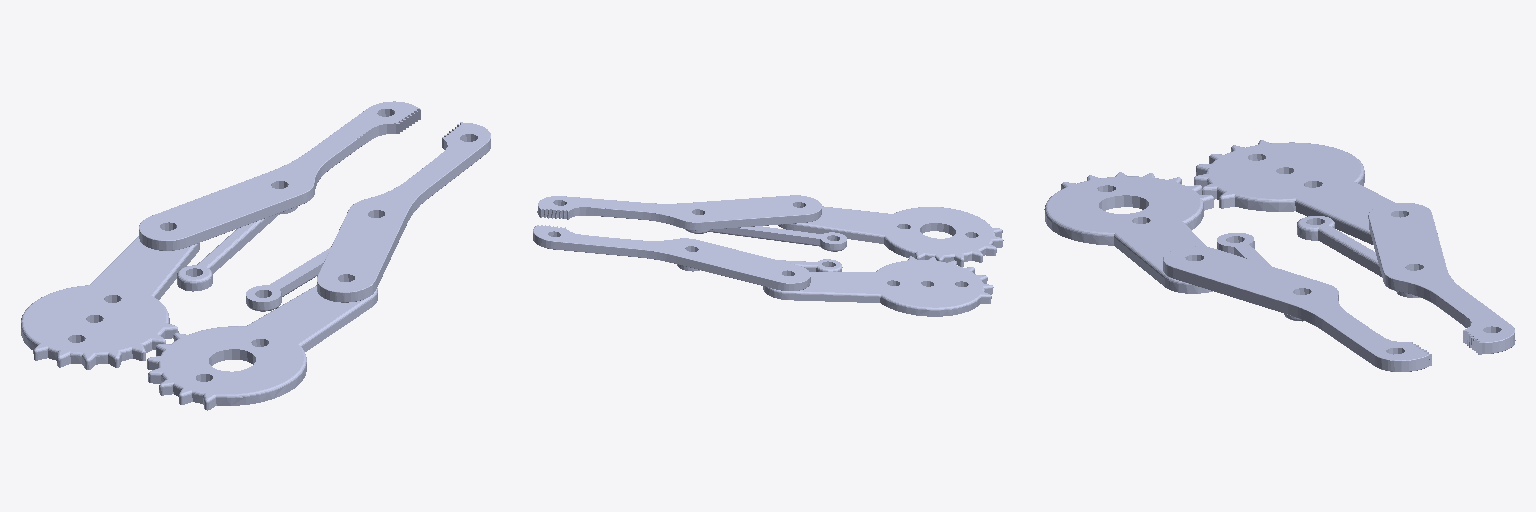
robot.urdf — RBTC_ASSEM_COMBINED:
<?xml version="1.0" encoding="utf-8"?>
<!-- This URDF was automatically created by SolidWorks to URDF Exporter! Originally created by [author] ([email redacted]) 
     Commit Version: 1.6.0-4-g7f85cfe  Build Version: 1.6.7995.38578
     For more information, please see http://wiki.ros.org/sw_urdf_exporter -->
<robot
  name="RBTC_ASSEM_COMBINED">
  <link
    name="base_link">
    <inertial>
      <origin
        xyz="0.0322125722891531 -0.0450904382938323 0.0430857594162836"
        rpy="0 0 0" />
      <mass
        value="0.0750869004773183" />
      <inertia
        ixx="4.23886363599727E-05"
        ixy="-8.08436179929658E-12"
        ixz="6.65028976677411E-08"
        iyy="1.8766674682362E-05"
        iyz="7.17327858728356E-08"
        izz="3.98976211467039E-05" />
    </inertial>
    <visual>
      <origin
        xyz="0 0 0"
        rpy="0 0 0" />
      <geometry>
        <mesh
          filename="package://RBTC_ASSEM_COMBINED/meshes/base_link.STL" />
      </geometry>
      <material
        name="">
        <color
          rgba="0.792156862745098 0.819607843137255 0.933333333333333 1" />
      </material>
    </visual>
    <collision>
      <origin
        xyz="0 0 0"
        rpy="0 0 0" />
      <geometry>
        <mesh
          filename="package://RBTC_ASSEM_COMBINED/meshes/base_link.STL" />
      </geometry>
    </collision>
  </link>
  <link
    name="pan_link">
    <inertial>
      <origin
        xyz="0.0121597754332669 0.00617031671697683 0.100269853687034"
        rpy="0 0 0" />
      <mass
        value="0.0391115640031782" />
      <inertia
        ixx="9.52906858889322E-06"
        ixy="-1.14270462060105E-06"
        ixz="2.89413881015819E-08"
        iyy="1.11585037533337E-05"
        iyz="-5.9875116565375E-08"
        izz="1.13226152634095E-05" />
    </inertial>
    <visual>
      <origin
        xyz="0 0 0"
        rpy="0 0 0" />
      <geometry>
        <mesh
          filename="package://RBTC_ASSEM_COMBINED/meshes/pan_link.STL" />
      </geometry>
      <material
        name="">
        <color
          rgba="0.792156862745098 0.819607843137255 0.933333333333333 1" />
      </material>
    </visual>
    <collision>
      <origin
        xyz="0 0 0"
        rpy="0 0 0" />
      <geometry>
        <mesh
          filename="package://RBTC_ASSEM_COMBINED/meshes/pan_link.STL" />
      </geometry>
    </collision>
  </link>
  <joint
    name="Joint_1"
    type="revolute">
    <origin
      xyz="0.03725 -0.054499 0"
      rpy="0 0 0" />
    <parent
      link="base_link" />
    <child
      link="pan_link" />
    <axis
      xyz="0 0 1" />
    <limit
      lower="0"
      upper="0"
      effort="1.07"
      velocity="2.25" />
  </joint>
  <link
    name="tilt_link">
    <inertial>
      <origin
        xyz="0.0340658298771595 -0.0174824203639809 0.0450091906125141"
        rpy="0 0 0" />
      <mass
        value="0.0145715061545409" />
      <inertia
        ixx="1.02030766473455E-05"
        ixy="2.24998187471656E-06"
        ixz="-1.52556582758867E-06"
        iyy="6.63436773563886E-06"
        iyz="-7.37221493910408E-07"
        izz="8.85099329790317E-06" />
    </inertial>
    <visual>
      <origin
        xyz="0 0 0"
        rpy="0 0 0" />
      <geometry>
        <mesh
          filename="package://RBTC_ASSEM_COMBINED/meshes/tilt_link.STL" />
      </geometry>
      <material
        name="">
        <color
          rgba="0.792156862745098 0.819607843137255 0.933333333333333 1" />
      </material>
    </visual>
    <collision>
      <origin
        xyz="0 0 0"
        rpy="0 0 0" />
      <geometry>
        <mesh
          filename="package://RBTC_ASSEM_COMBINED/meshes/tilt_link.STL" />
      </geometry>
    </collision>
  </link>
  <joint
    name="Joint_2"
    type="revolute">
    <origin
      xyz="-0.011158 0.026539 0.1077"
      rpy="0 0 0" />
    <parent
      link="pan_link" />
    <child
      link="tilt_link" />
    <axis
      xyz="0.4351 -0.90038 0" />
    <limit
      lower="0"
      upper="0"
      effort="1.07"
      velocity="2.25" />
  </joint>
  <link
    name="tilt_link2">
    <inertial>
      <origin
        xyz="0.0323300763250958 -0.0179693187111258 0.00351917647076791"
        rpy="0 0 0" />
      <mass
        value="0.0415514970399526" />
      <inertia
        ixx="9.36512363364744E-06"
        ixy="2.09499396607922E-07"
        ixz="-1.05560533082383E-06"
        iyy="8.88684831012535E-06"
        iyz="-5.98214181934272E-07"
        izz="1.47112404798138E-05" />
    </inertial>
    <visual>
      <origin
        xyz="0 0 0"
        rpy="0 0 0" />
      <geometry>
        <mesh
          filename="package://RBTC_ASSEM_COMBINED/meshes/tilt_link2.STL" />
      </geometry>
      <material
        name="">
        <color
          rgba="0.792156862745098 0.819607843137255 0.933333333333333 1" />
      </material>
    </visual>
    <collision>
      <origin
        xyz="0 0 0"
        rpy="0 0 0" />
      <geometry>
        <mesh
          filename="package://RBTC_ASSEM_COMBINED/meshes/tilt_link2.STL" />
      </geometry>
    </collision>
  </link>
  <joint
    name="Joint_3"
    type="revolute">
    <origin
      xyz="0.042284 0.020434 0.091671"
      rpy="0 0 0" />
    <parent
      link="tilt_link" />
    <child
      link="tilt_link2" />
    <axis
      xyz="0.4351 -0.90038 0" />
    <limit
      lower="0"
      upper="0"
      effort="1.07"
      velocity="2.25" />
  </joint>
  <link
    name="tilt_link3">
    <inertial>
      <origin
        xyz="0.0307581705802682 -0.0193756528792168 0.0148465465687513"
        rpy="0 0 0" />
      <mass
        value="0.0637086636084426" />
      <inertia
        ixx="1.07476277265833E-05"
        ixy="-8.39454123772837E-08"
        ixz="-3.54690238089718E-07"
        iyy="1.05040450064873E-05"
        iyz="-1.08351381177356E-07"
        izz="1.70770325354857E-05" />
    </inertial>
    <visual>
      <origin
        xyz="0 0 0"
        rpy="0 0 0" />
      <geometry>
        <mesh
          filename="package://RBTC_ASSEM_COMBINED/meshes/tilt_link3.STL" />
      </geometry>
      <material
        name="">
        <color
          rgba="0.792156862745098 0.819607843137255 0.933333333333333 1" />
      </material>
    </visual>
    <collision>
      <origin
        xyz="0 0 0"
        rpy="0 0 0" />
      <geometry>
        <mesh
          filename="package://RBTC_ASSEM_COMBINED/meshes/tilt_link3.STL" />
      </geometry>
    </collision>
  </link>
  <joint
    name="Joint_4"
    type="revolute">
    <origin
      xyz="0.086984 0.036759 0.02048"
      rpy="0 0 0" />
    <parent
      link="tilt_link2" />
    <child
      link="tilt_link3" />
    <axis
      xyz="0.4351 -0.90038 0" />
    <limit
      lower="0"
      upper="0"
      effort="1.07"
      velocity="2.25" />
  </joint>
  <link
    name="arm_rot_link">
    <inertial>
      <origin
        xyz="0.0798240927961087 0.0142525468035986 -0.012664035886584"
        rpy="0 0 0" />
      <mass
        value="0.035038743743134" />
      <inertia
        ixx="7.41110516394362E-06"
        ixy="1.24617888225622E-06"
        ixz="1.55558821701446E-07"
        iyy="5.393640730361E-06"
        iyz="-5.8437556389652E-09"
        izz="5.95334334046931E-06" />
    </inertial>
    <visual>
      <origin
        xyz="0 0 0"
        rpy="0 0 0" />
      <geometry>
        <mesh
          filename="package://RBTC_ASSEM_COMBINED/meshes/arm_rot_link.STL" />
      </geometry>
      <material
        name="">
        <color
          rgba="0.792156862745098 0.819607843137255 0.933333333333333 1" />
      </material>
    </visual>
    <collision>
      <origin
        xyz="0 0 0"
        rpy="0 0 0" />
      <geometry>
        <mesh
          filename="package://RBTC_ASSEM_COMBINED/meshes/arm_rot_link.STL" />
      </geometry>
    </collision>
  </link>
  <joint
    name="Joint_5"
    type="revolute">
    <origin
      xyz="0.014779 -0.018682 0.027408"
      rpy="0 0 0" />
    <parent
      link="tilt_link3" />
    <child
      link="arm_rot_link" />
    <axis
      xyz="0.89837 0.43413 0.066865" />
    <limit
      lower="0"
      upper="0"
      effort="1.07"
      velocity="2.25" />
  </joint>
  <link
    name="claw_gear_right">
    <inertial>
      <origin
        xyz="0.00733253737176701 0.0030637929040965 -0.000475299028632248"
        rpy="0 0 0" />
      <mass
        value="0.0013754890893663" />
      <inertia
        ixx="6.96811904044285E-08"
        ixy="-6.03067792542813E-08"
        ixz="-1.42764704741264E-08"
        iyy="2.09350483029757E-07"
        iyz="-5.61029499623062E-09"
        izz="2.76071539308495E-07" />
    </inertial>
    <visual>
      <origin
        xyz="0 0 0"
        rpy="0 0 0" />
      <geometry>
        <mesh
          filename="package://RBTC_ASSEM_COMBINED/meshes/claw_gear_right.STL" />
      </geometry>
      <material
        name="">
        <color
          rgba="0.792156862745098 0.819607843137255 0.933333333333333 1" />
      </material>
    </visual>
    <collision>
      <origin
        xyz="0 0 0"
        rpy="0 0 0" />
      <geometry>
        <mesh
          filename="package://RBTC_ASSEM_COMBINED/meshes/claw_gear_right.STL" />
      </geometry>
    </collision>
  </link>
  <joint
    name="Joint_6"
    type="revolute">
    <origin
      xyz="0.076557 0.01956 0.011654"
      rpy="0 0 0" />
    <parent
      link="arm_rot_link" />
    <child
      link="claw_gear_right" />
    <axis
      xyz="0.060204 0.029093 -0.99776" />
    <limit
      lower="0"
      upper="0"
      effort="1.07"
      velocity="2.25" />
  </joint>
  <link
    name="claw_finger_right">
    <inertial>
      <origin
        xyz="0.0167099520180898 0.0147135953100836 0.000435044625649028"
        rpy="0 0 0" />
      <mass
        value="0.000915119454499884" />
      <inertia
        ixx="1.00899961269851E-07"
        ixy="-1.23645647110571E-07"
        ixz="-1.41408536044103E-08"
        iyy="1.76370229480981E-07"
        iyz="-1.03512930385455E-08"
        izz="2.74350634303337E-07" />
    </inertial>
    <visual>
      <origin
        xyz="0 0 0"
        rpy="0 0 0" />
      <geometry>
        <mesh
          filename="package://RBTC_ASSEM_COMBINED/meshes/claw_finger_right.STL" />
      </geometry>
      <material
        name="">
        <color
          rgba="0.792156862745098 0.819607843137255 0.933333333333333 1" />
      </material>
    </visual>
    <collision>
      <origin
        xyz="0 0 0"
        rpy="0 0 0" />
      <geometry>
        <mesh
          filename="package://RBTC_ASSEM_COMBINED/meshes/claw_finger_right.STL" />
      </geometry>
    </collision>
  </link>
  <joint
    name="Joint_8"
    type="revolute">
    <origin
      xyz="0.028474 0.011097 0.0040462"
      rpy="0 0 0" />
    <parent
      link="claw_gear_right" />
    <child
      link="claw_finger_right" />
    <axis
      xyz="0.060204 0.029093 -0.99776" />
    <limit
      lower="0"
      upper="0"
      effort="1.07"
      velocity="2.25" />
  </joint>
  <link
    name="claw_gear_left">
    <inertial>
      <origin
        xyz="0.00614870313596075 0.00426101151348443 -0.000511537712867605"
        rpy="0 0 0" />
      <mass
        value="0.00146188196614316" />
      <inertia
        ixx="1.16317367765852E-07"
        ixy="-9.11243864675867E-08"
        ixz="-1.27074222907013E-08"
        iyy="1.68629131584842E-07"
        iyz="-8.83462593360449E-09"
        izz="2.81930562691781E-07" />
    </inertial>
    <visual>
      <origin
        xyz="0 0 0"
        rpy="0 0 0" />
      <geometry>
        <mesh
          filename="package://RBTC_ASSEM_COMBINED/meshes/claw_gear_left.STL" />
      </geometry>
      <material
        name="">
        <color
          rgba="0.792156862745098 0.819607843137255 0.933333333333333 1" />
      </material>
    </visual>
    <collision>
      <origin
        xyz="0 0 0"
        rpy="0 0 0" />
      <geometry>
        <mesh
          filename="package://RBTC_ASSEM_COMBINED/meshes/claw_gear_left.STL" />
      </geometry>
    </collision>
  </link>
  <joint
    name="Joint_7"
    type="fixed">
    <origin
      xyz="0.064559 0.044814 0.011917"
      rpy="0 0 0" />
    <parent
      link="arm_rot_link" />
    <child
      link="claw_gear_left" />
    <axis
      xyz="0 0 0" />
    <limit
      effort="0"
      velocity="2.25" />
  </joint>
  <link
    name="claw_finger_left">
    <inertial>
      <origin
        xyz="0.0218155754623671 0.00444808086460385 0.000443786418817704"
        rpy="0 0 0" />
      <mass
        value="0.000915119524811432" />
      <inertia
        ixx="2.99279444428939E-08"
        ixy="-6.99478997487584E-08"
        ixz="-1.68574928938676E-08"
        iyy="2.47351360164997E-07"
        iyz="-5.04152477208969E-09"
        izz="2.74341558668637E-07" />
    </inertial>
    <visual>
      <origin
        xyz="0 0 0"
        rpy="0 0 0" />
      <geometry>
        <mesh
          filename="package://RBTC_ASSEM_COMBINED/meshes/claw_finger_left.STL" />
      </geometry>
      <material
        name="">
        <color
          rgba="0.792156862745098 0.819607843137255 0.933333333333333 1" />
      </material>
    </visual>
    <collision>
      <origin
        xyz="0 0 0"
        rpy="0 0 0" />
      <geometry>
        <mesh
          filename="package://RBTC_ASSEM_COMBINED/meshes/claw_finger_left.STL" />
      </geometry>
    </collision>
  </link>
  <joint
    name="Joint_9"
    type="revolute">
    <origin
      xyz="0.024668 0.018045 0.0040191"
      rpy="0 0 0" />
    <parent
      link="claw_gear_left" />
    <child
      link="claw_finger_left" />
    <axis
      xyz="-0.060204 -0.029093 0.99776" />
    <limit
      lower="0"
      upper="0"
      effort="1.07"
      velocity="2.25" />
  </joint>
  <link
    name="attach_right">
    <inertial>
      <origin
        xyz="0.0140885154048141 0.00530816472309698 -0.000328948185019273"
        rpy="0 0 0" />
      <mass
        value="0.000201367199453978" />
      <inertia
        ixx="3.4730663253518E-09"
        ixy="-7.99795190058279E-09"
        ixz="-1.52974359751515E-09"
        iyy="2.17267078350555E-08"
        iyz="-5.76883389048401E-10"
        izz="2.48514622759855E-08" />
    </inertial>
    <visual>
      <origin
        xyz="0 0 0"
        rpy="0 0 0" />
      <geometry>
        <mesh
          filename="package://RBTC_ASSEM_COMBINED/meshes/attach_right.STL" />
      </geometry>
      <material
        name="">
        <color
          rgba="0.792156862745098 0.819607843137255 0.933333333333333 1" />
      </material>
    </visual>
    <collision>
      <origin
        xyz="0 0 0"
        rpy="0 0 0" />
      <geometry>
        <mesh
          filename="package://RBTC_ASSEM_COMBINED/meshes/attach_right.STL" />
      </geometry>
    </collision>
  </link>
  <joint
    name="Joint_10"
    type="revolute">
    <origin
      xyz="0.092697 0.037021 0.013488"
      rpy="0 0 0" />
    <parent
      link="arm_rot_link" />
    <child
      link="attach_right" />
    <axis
      xyz="-0.060204 -0.029093 0.99776" />
    <limit
      lower="0"
      upper="0"
      effort="1.07"
      velocity="2.25" />
  </joint>
  <link
    name="attach_left">
    <inertial>
      <origin
        xyz="0.0128567962087155 0.00780649279371831 -0.000118290581560876"
        rpy="0 0 0" />
      <mass
        value="0.000201367199467839" />
      <inertia
        ixx="7.0125646820852E-09"
        ixy="-1.07726486492E-08"
        ixz="-1.39707966904752E-09"
        iyy="1.81870958832197E-08"
        iyz="-8.47515470162307E-10"
        izz="2.48515758704713E-08" />
    </inertial>
    <visual>
      <origin
        xyz="0 0 0"
        rpy="0 0 0" />
      <geometry>
        <mesh
          filename="package://RBTC_ASSEM_COMBINED/meshes/attach_left.STL" />
      </geometry>
      <material
        name="">
        <color
          rgba="0.792156862745098 0.819607843137255 0.933333333333333 1" />
      </material>
    </visual>
    <collision>
      <origin
        xyz="0 0 0"
        rpy="0 0 0" />
      <geometry>
        <mesh
          filename="package://RBTC_ASSEM_COMBINED/meshes/attach_left.STL" />
      </geometry>
    </collision>
  </link>
  <joint
    name="Joint_11"
    type="revolute">
    <origin
      xyz="0.086606 0.049626 0.013488"
      rpy="0 0 0" />
    <parent
      link="arm_rot_link" />
    <child
      link="attach_left" />
    <axis
      xyz="-0.060204 -0.029093 0.99776" />
    <limit
      lower="0"
      upper="0"
      effort="1.07"
      velocity="2.25" />
  </joint>
</robot>

--- What the picture shows (computed from the rendered views, not written in the file) ---
The picture shows the robot from 3 angles, left to right: view 1: azimuth 30°, elevation 25°; view 2: azimuth 150°, elevation 25°; view 3: azimuth 270°, elevation 25°; orthographic projection.
Model RBTC_ASSEM_COMBINED with 12 links and 11 joints (10 revolute, 1 fixed), rooted at base_link, posed every joint at zero.
Links seen in each view (by area): view 1: claw_gear_right, claw_gear_left, claw_finger_left, claw_finger_right, attach_left, attach_right; view 2: claw_gear_left, claw_gear_right, claw_finger_right, claw_finger_left, attach_right, attach_left; view 3: claw_gear_left, claw_gear_right, claw_finger_right, claw_finger_left, attach_left, attach_right.
Boxes of the visible links, <box> form: claw_gear_right: <box>147,285,377,410</box>; claw_gear_left: <box>21,236,199,369</box>; claw_finger_left: <box>139,101,420,250</box>; claw_finger_right: <box>317,122,490,302</box>; attach_left: <box>177,206,297,291</box>; attach_right: <box>246,247,330,311</box>; claw_gear_left: <box>763,256,993,316</box>; claw_gear_right: <box>778,206,1003,266</box>; claw_finger_right: <box>537,195,821,230</box>; claw_finger_left: <box>533,225,810,290</box>; attach_right: <box>685,226,846,251</box>; attach_left: <box>677,259,842,271</box>; claw_gear_left: <box>1194,140,1394,244</box>; claw_gear_right: <box>1044,172,1213,293</box>; claw_finger_right: <box>1163,246,1431,371</box>; claw_finger_left: <box>1368,203,1515,354</box>; attach_left: <box>1297,216,1419,297</box>; attach_right: <box>1217,233,1303,321</box>.
Bounding box of the posed robot: 0.1006 × 0.0739 × 0.011 m (x, y, z).
Meshes: 12 distinct files referenced, 6 mesh visuals loaded (6 binary STL); not drawn: 6 (reference not matched to a file when rendering).